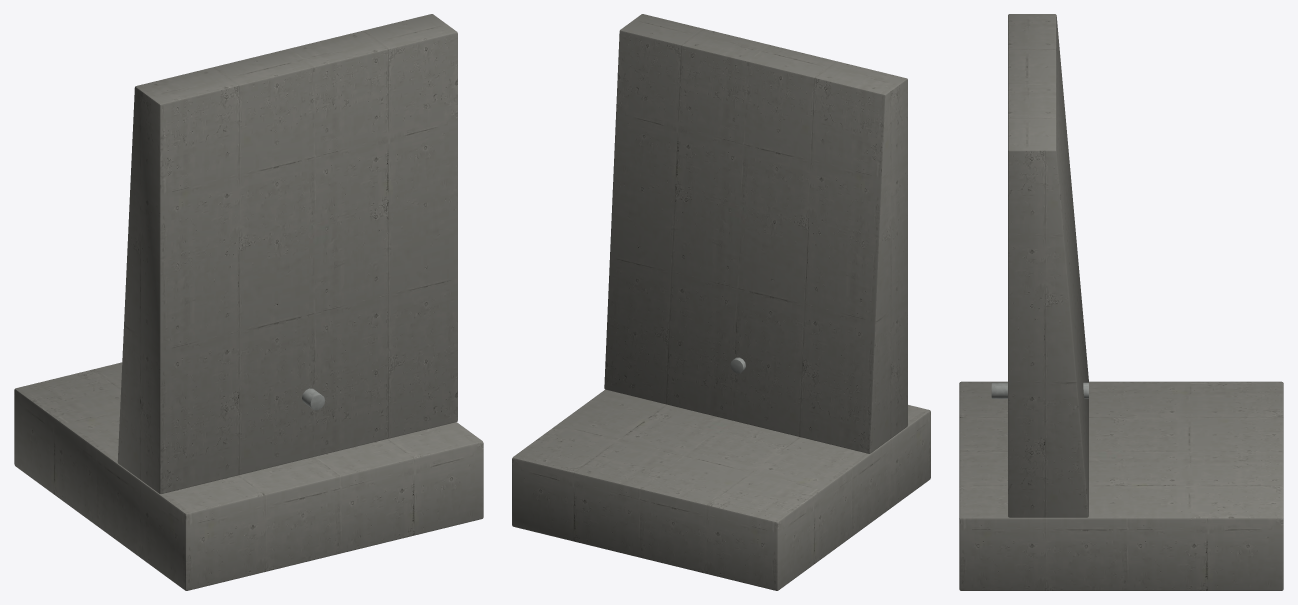
The model's file is FUN-ARR-001.glb.
The picture shows the model from 3 angles, left to right: view 1: azimuth 30°, elevation 25°; view 2: azimuth 150°, elevation 25°; view 3: azimuth 270°, elevation 25°; orthographic projection. The views are drawn at different scales.
Visible parts, largest first — view 1: FUN-ARR-001_parede, FUN-ARR-001_sapata; view 2: FUN-ARR-001_parede, FUN-ARR-001_sapata; view 3: FUN-ARR-001_sapata, FUN-ARR-001_parede.
Boxes of the visible parts, x1,y1,x2,y2 form: FUN-ARR-001_parede: (117, 14, 457, 493); FUN-ARR-001_sapata: (14, 362, 483, 590); FUN-ARR-001_parede: (604, 14, 907, 453); FUN-ARR-001_sapata: (512, 389, 930, 590); FUN-ARR-001_sapata: (959, 381, 1283, 590); FUN-ARR-001_parede: (1008, 14, 1088, 517).
Size of the model in its own units: 1 by 1.5 by 1.
Materials: 2 (2 with a texture image).
